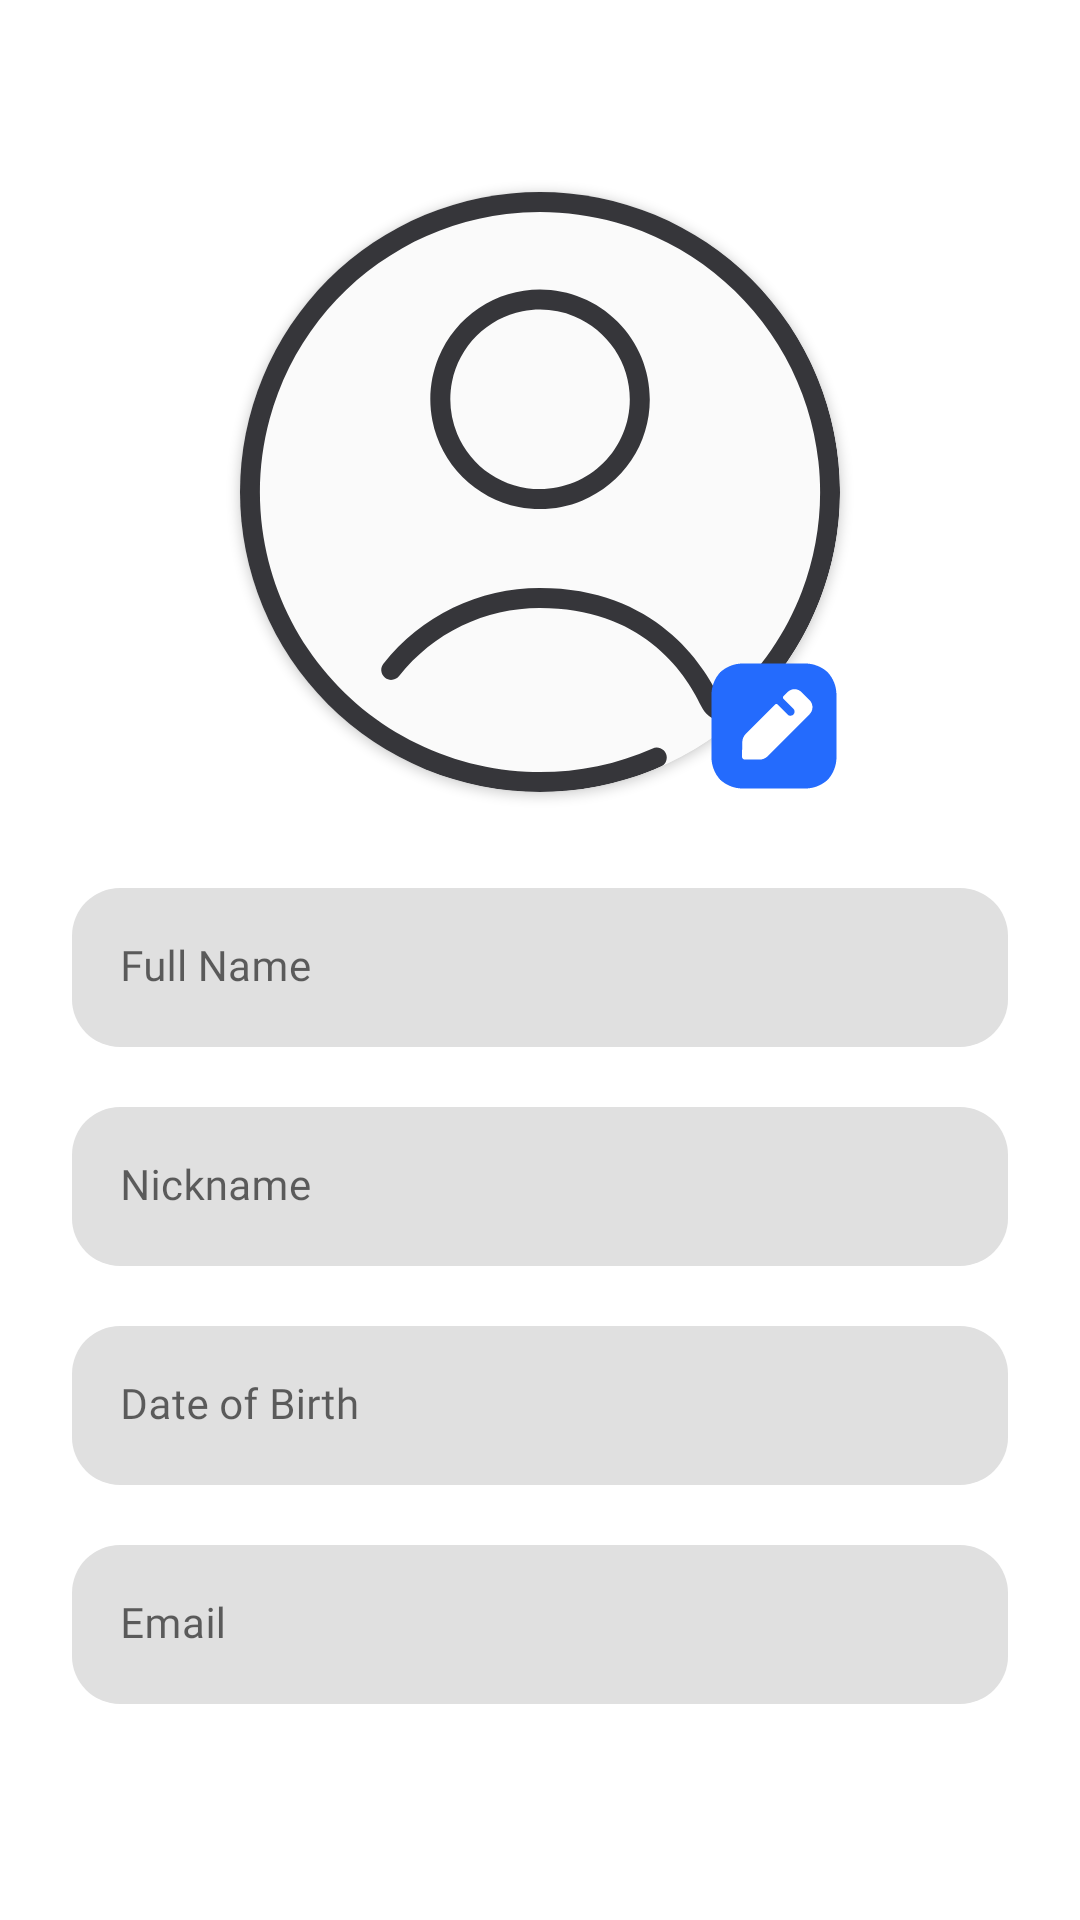

Point at icon controls on the screen. Image size 1080 × 1920, points as (x,y).
edit: (772,724)
